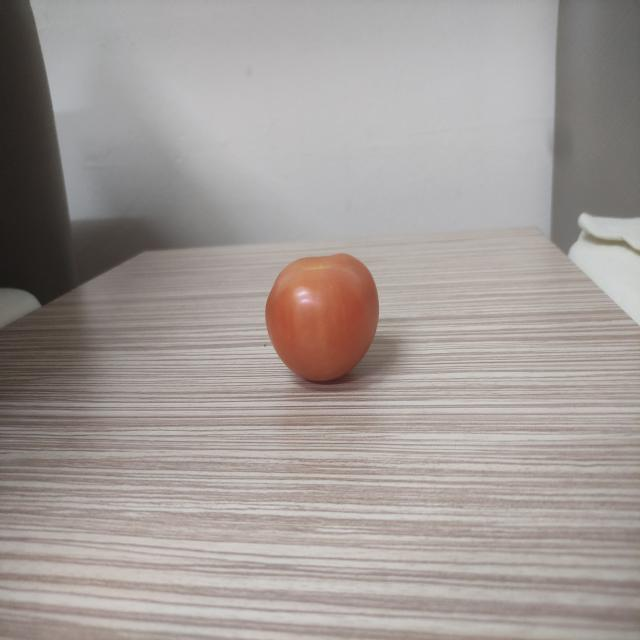sari: (262, 252, 386, 394)
